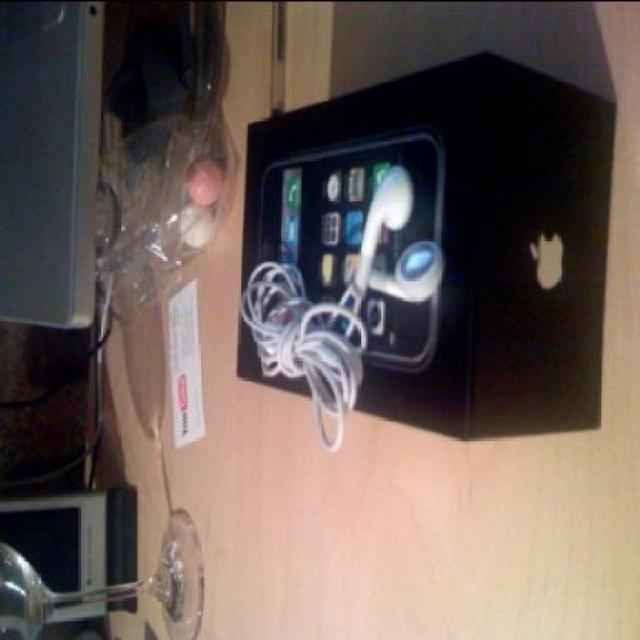phone: (149, 73, 549, 510)
